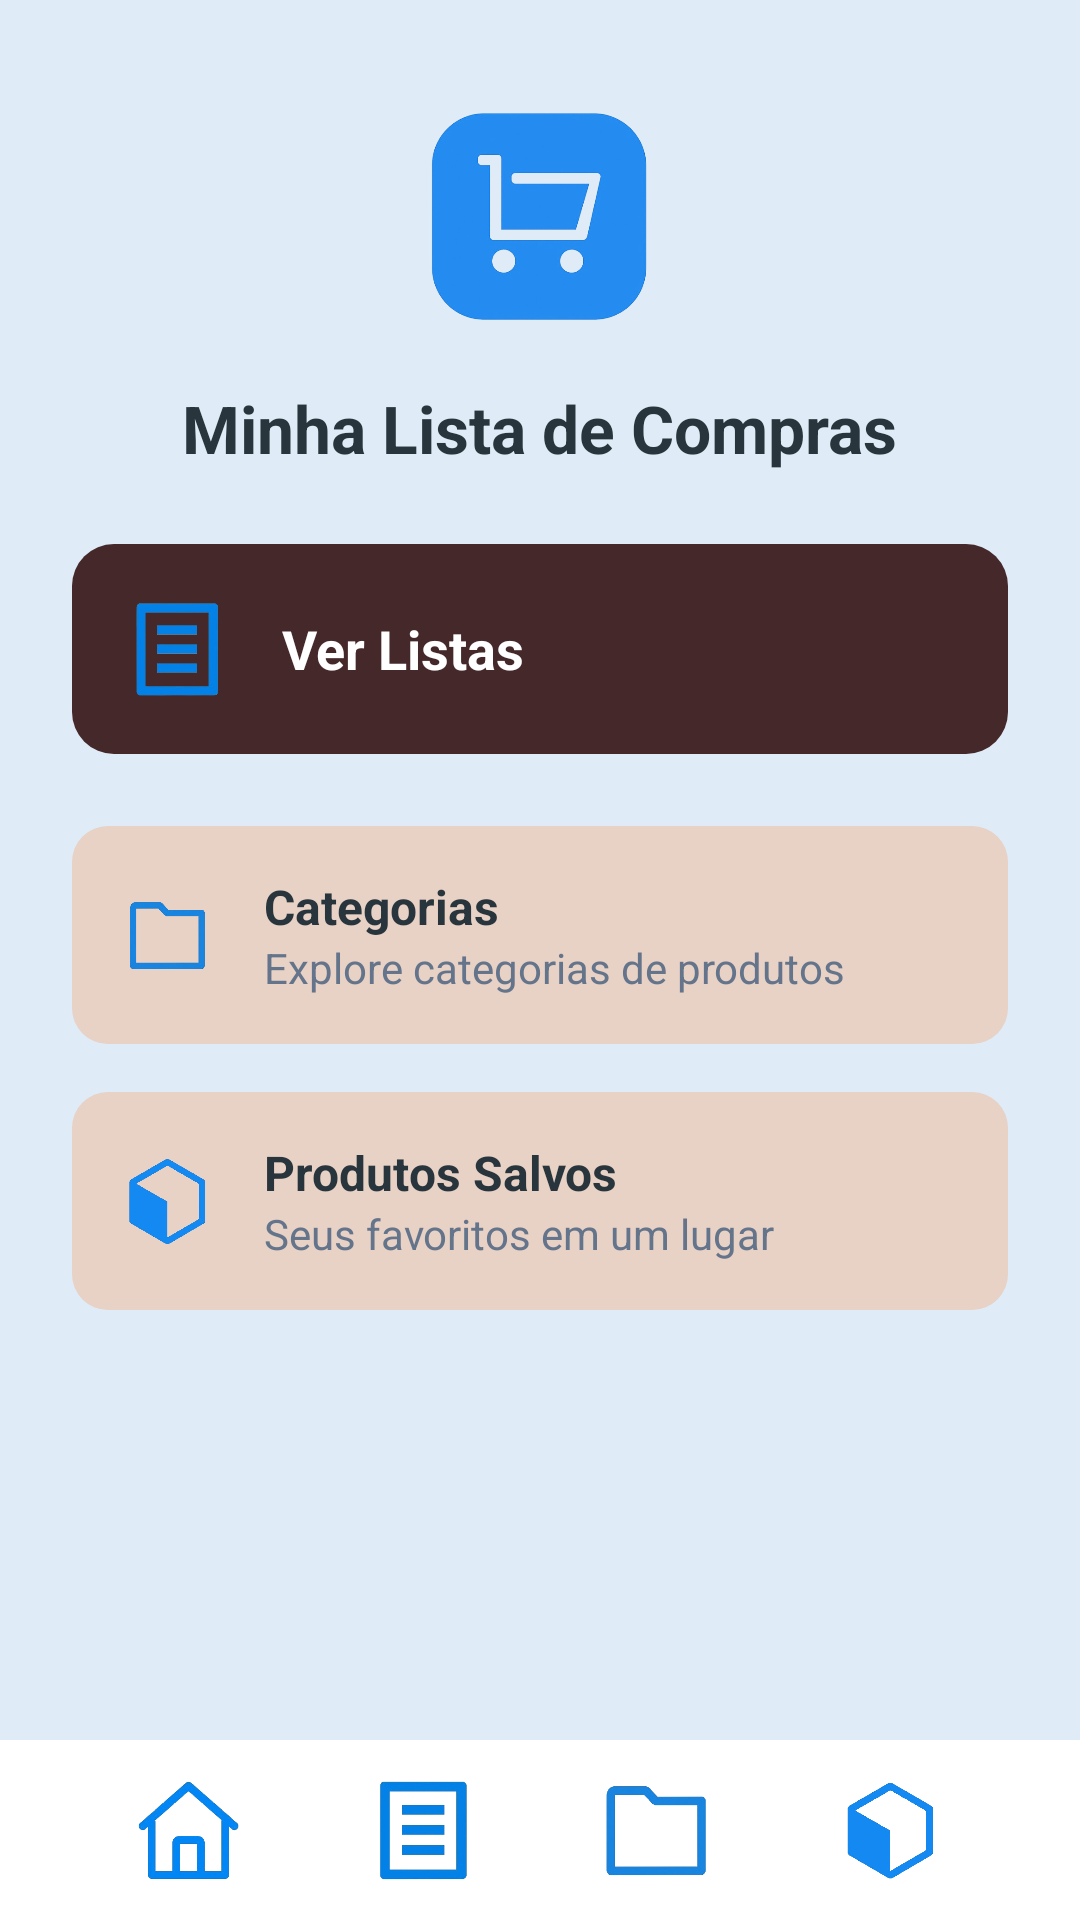

Icons on this 1080 x 1920 Android screen, each with the point to tap as [x,y]:
caixa: [167,1201], [890,1831]
home: [189,1830]
pasta: [167,935], [656,1830]
